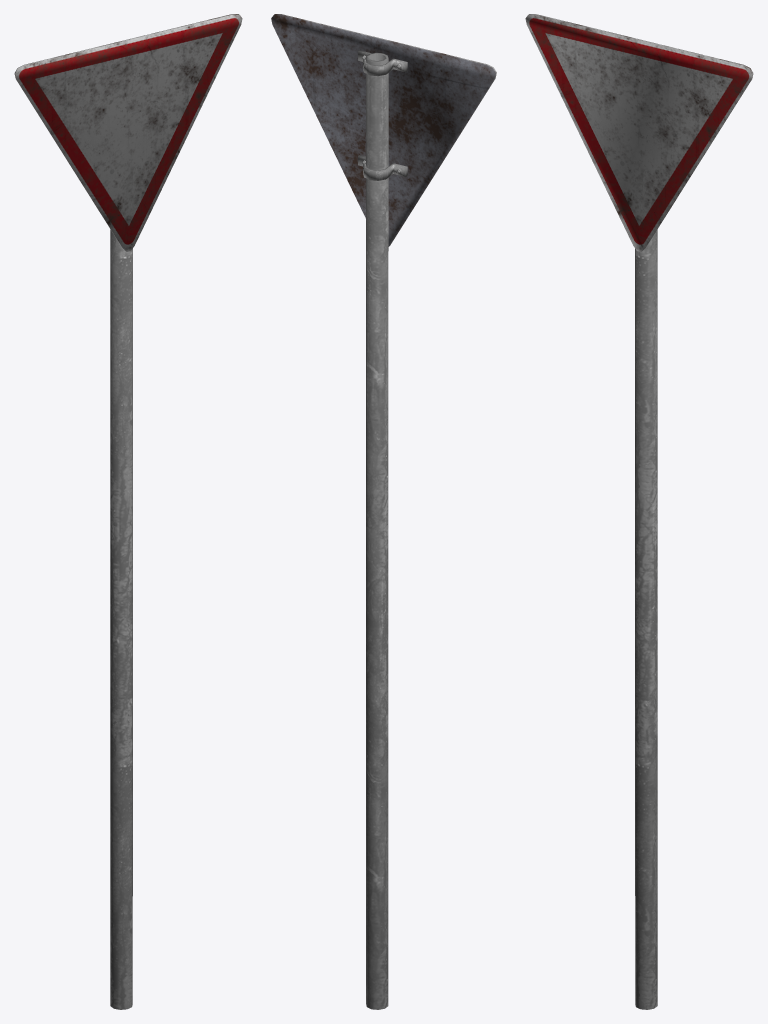
The model's file is Traffic_sign_2.glb.
3 renders of one model, left to right at view 1: azimuth 30°, elevation 25°; view 2: azimuth 150°, elevation 25°; view 3: azimuth 330°, elevation 25°, orthographic.
Visible parts, largest first — view 1: give_way_Sign_0, give_way_Sign_Pole_0; view 2: give_way_Sign_Pole_0, give_way_Sign_0, give_way_Sign_Support_0; view 3: give_way_Sign_0, give_way_Sign_Pole_0.
Part boxes in pixels (box(x1,y1,x2,y2)): give_way_Sign_0: box(14, 14, 242, 251); give_way_Sign_Pole_0: box(110, 229, 132, 1009); give_way_Sign_Pole_0: box(365, 52, 388, 1009); give_way_Sign_0: box(271, 14, 496, 246); give_way_Sign_Support_0: box(358, 50, 407, 180); give_way_Sign_0: box(525, 14, 753, 251); give_way_Sign_Pole_0: box(635, 229, 657, 1009).
Size of the model in its own units: 1.49 by 6.07 by 0.1666.
Materials: 4 (4 with a texture image).
